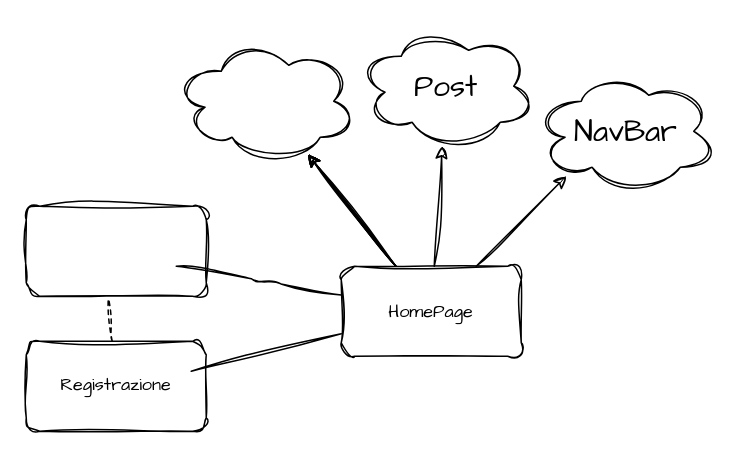
Some shapes in this 743 by 458 pixel diagram are drawn without their labels. Each missing label, with the box of its shape:
Login: (25, 205, 206, 296)
Storie?: (175, 40, 356, 161)
